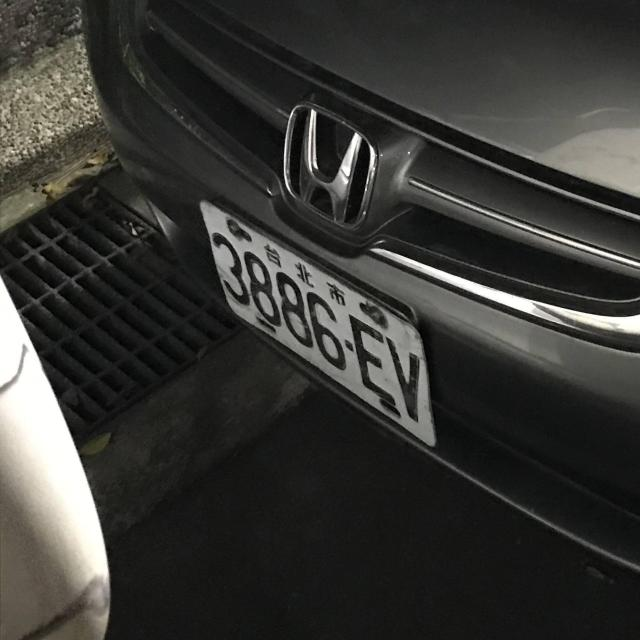W: (198, 203, 456, 453)
